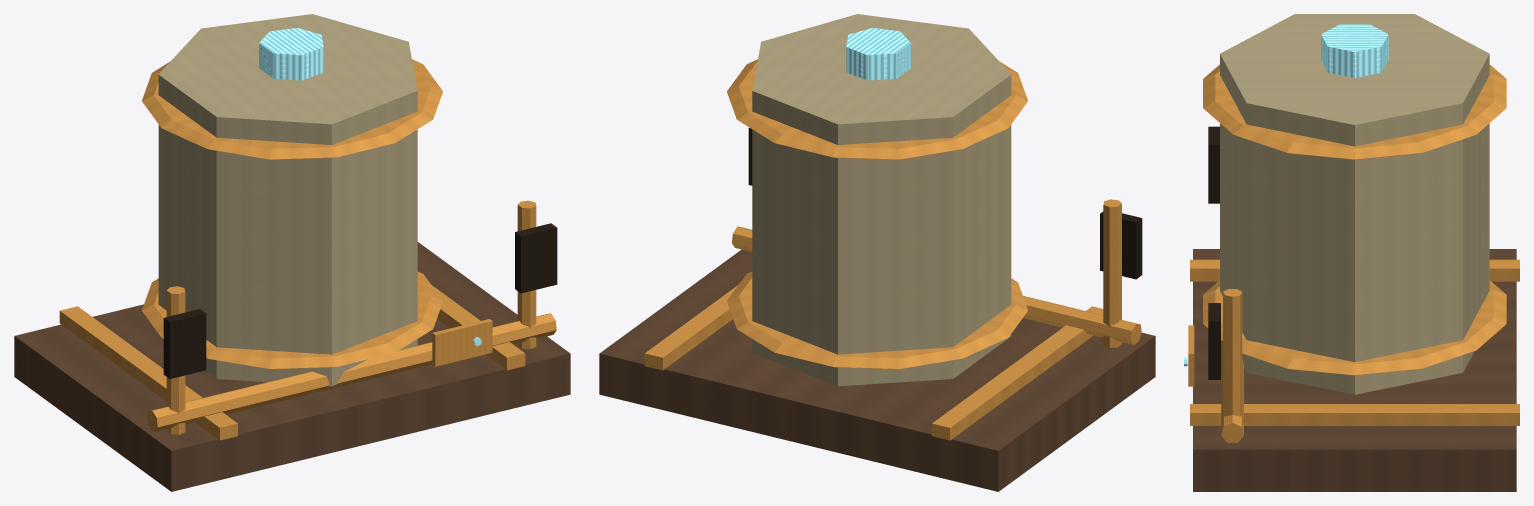
The model's file is atlas100-s019-a04.lod1.glb.
3 renders of one model, left to right at view 1: azimuth 30°, elevation 25°; view 2: azimuth 150°, elevation 25°; view 3: azimuth 270°, elevation 25°, orthographic. The views are drawn at different scales.
Parts seen in each view (by area): view 1: atlas100-s019-a04:part-003, atlas100-s019-a04:part-000, atlas100-s019-a04:part-011, atlas100-s019-a04:part-005, atlas100-s019-a04:part-004, atlas100-s019-a04:part-001, atlas100-s019-a04:part-006, atlas100-s019-a04:part-008, atlas100-s019-a04:part-010, atlas100-s019-a04:part-012, atlas100-s019-a04:part-002, atlas100-s019-a04:part-007 (+1 smaller); view 2: atlas100-s019-a04:part-003, atlas100-s019-a04:part-000, atlas100-s019-a04:part-005, atlas100-s019-a04:part-004, atlas100-s019-a04:part-001, atlas100-s019-a04:part-006, atlas100-s019-a04:part-011, atlas100-s019-a04:part-002, atlas100-s019-a04:part-007, atlas100-s019-a04:part-008; view 3: atlas100-s019-a04:part-003, atlas100-s019-a04:part-000, atlas100-s019-a04:part-005, atlas100-s019-a04:part-002, atlas100-s019-a04:part-004, atlas100-s019-a04:part-006, atlas100-s019-a04:part-009, atlas100-s019-a04:part-001, atlas100-s019-a04:part-010, atlas100-s019-a04:part-008, atlas100-s019-a04:part-011, atlas100-s019-a04:part-012.
Part boxes in pixels (x1,y1,x2,y2): atlas100-s019-a04:part-003: (158,14,417,386); atlas100-s019-a04:part-000: (14,242,570,491); atlas100-s019-a04:part-011: (147,313,556,431); atlas100-s019-a04:part-005: (142,59,442,159); atlas100-s019-a04:part-004: (142,271,442,369); atlas100-s019-a04:part-001: (59,306,237,440); atlas100-s019-a04:part-006: (259,27,323,80); atlas100-s019-a04:part-008: (163,309,206,378); atlas100-s019-a04:part-010: (515,223,557,293); atlas100-s019-a04:part-012: (432,319,492,366); atlas100-s019-a04:part-002: (432,285,525,370); atlas100-s019-a04:part-007: (166,286,185,434); atlas100-s019-a04:part-003: (752,14,1011,386); atlas100-s019-a04:part-000: (599,249,1155,491); atlas100-s019-a04:part-005: (727,59,1027,159); atlas100-s019-a04:part-004: (727,271,1027,369); atlas100-s019-a04:part-001: (932,306,1103,440); atlas100-s019-a04:part-006: (846,27,910,80); atlas100-s019-a04:part-011: (732,226,1141,344); atlas100-s019-a04:part-002: (644,285,737,370); atlas100-s019-a04:part-007: (1103,199,1121,347); atlas100-s019-a04:part-008: (1100,211,1142,279); atlas100-s019-a04:part-003: (1220,14,1489,394); atlas100-s019-a04:part-000: (1193,249,1516,491); atlas100-s019-a04:part-005: (1203,64,1506,159); atlas100-s019-a04:part-002: (1190,404,1519,425); atlas100-s019-a04:part-004: (1203,280,1506,375); atlas100-s019-a04:part-006: (1321,24,1388,77); atlas100-s019-a04:part-009: (1223,289,1242,416); atlas100-s019-a04:part-001: (1190,259,1519,281); atlas100-s019-a04:part-010: (1208,303,1220,379); atlas100-s019-a04:part-008: (1208,126,1219,203); atlas100-s019-a04:part-011: (1221,340,1243,442); atlas100-s019-a04:part-012: (1188,325,1194,386).
Size of the model in its own units: 2.64 by 2.18 by 1.87.
Materials: 5 (5 with a texture image).
